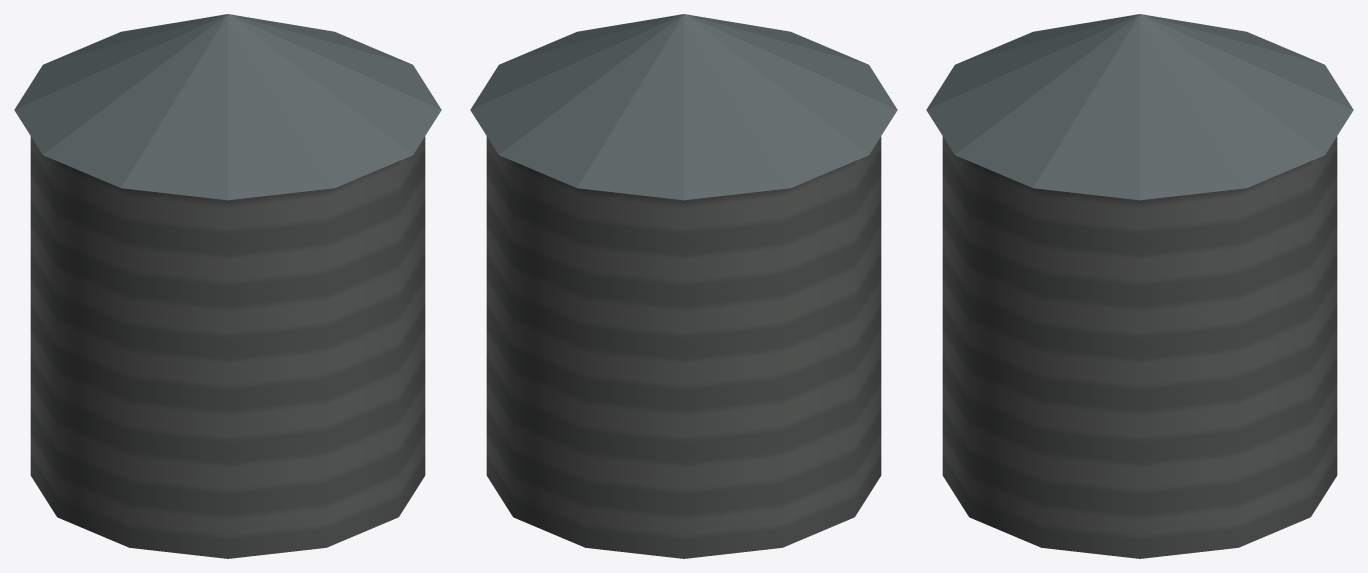
File: Silo_A1.fbx
3 renders of one model, left to right at view 1: azimuth 30°, elevation 25°; view 2: azimuth 150°, elevation 25°; view 3: azimuth 270°, elevation 25°, orthographic.
Parts seen in each view (by area): view 1: Silo_A1; view 2: Silo_A1; view 3: Silo_A1.
Boxes of the visible parts, x1,y1,x2,y2 form: Silo_A1: [14, 14, 441, 558]; Silo_A1: [470, 14, 897, 558]; Silo_A1: [926, 14, 1353, 558].
Size of the model in its own units: 554 by 661 by 554.
Materials: 1 (1 with a texture image).
